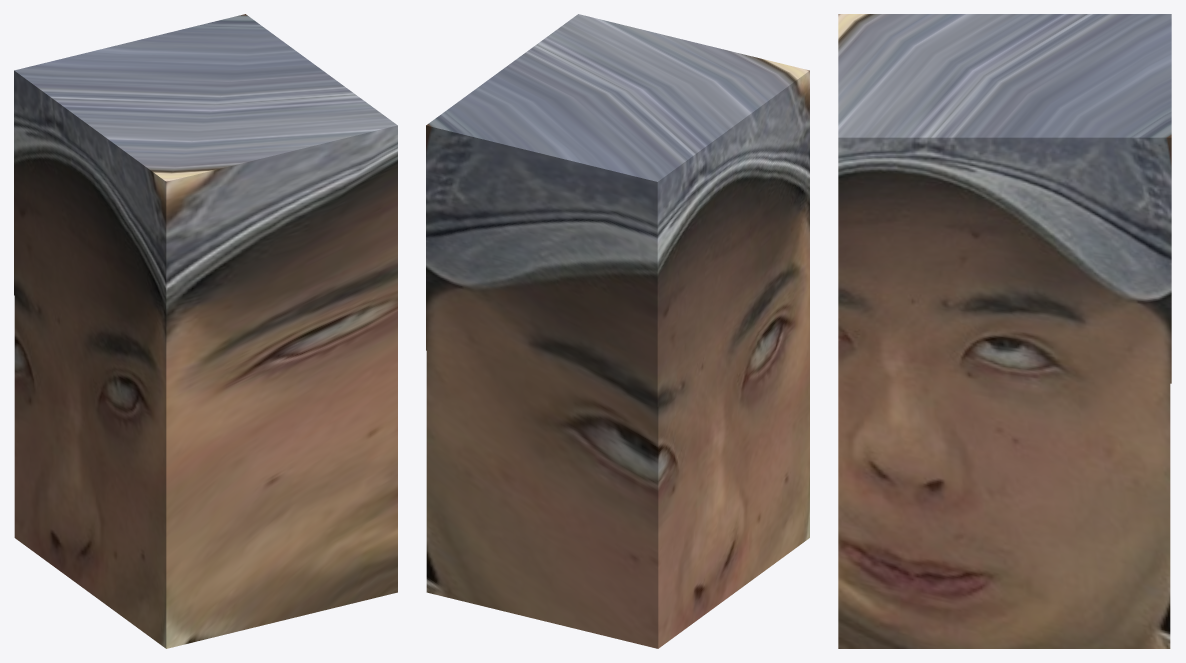
The picture shows the model from 3 angles, left to right: view 1: azimuth 30°, elevation 25°; view 2: azimuth 150°, elevation 25°; view 3: azimuth 270°, elevation 25°; orthographic projection. The views are drawn at different scales.
Parts seen in each view (by area): view 1: 立方体; view 2: 立方体; view 3: 立方体.
Part boxes in pixels (box(x1,y1,x2,y2)): 立方体: box(14, 14, 397, 648); 立方体: box(426, 14, 809, 648); 立方体: box(838, 14, 1171, 648).
Bounding box in the file's own units: 4.11 × 7.93 × 4.69.
Materials: 1 (1 with a texture image).
